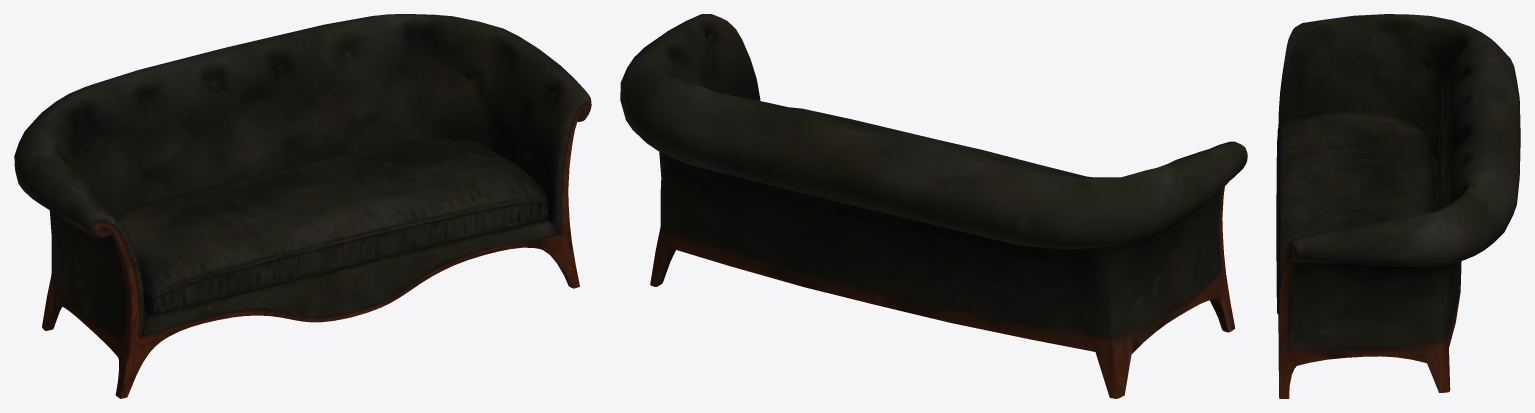
Rendered from sofa_02.gltf.
3 renders of one model, left to right at view 1: azimuth 30°, elevation 25°; view 2: azimuth 150°, elevation 25°; view 3: azimuth 270°, elevation 25°, orthographic. The views are drawn at different scales.
Parts seen in each view (by area): view 1: sofa_02_Base, sofa_02_Seat; view 2: sofa_02_Base, sofa_02_Seat; view 3: sofa_02_Base, sofa_02_Seat.
Boxes of the visible parts, bbox=[...] form: sofa_02_Base: bbox=[14, 14, 591, 398]; sofa_02_Seat: bbox=[115, 139, 549, 314]; sofa_02_Base: bbox=[620, 14, 1247, 398]; sofa_02_Seat: bbox=[789, 107, 1086, 176]; sofa_02_Base: bbox=[1278, 14, 1520, 398]; sofa_02_Seat: bbox=[1276, 112, 1433, 314].
Bounding box in the file's own units: 1.81 × 0.7095 × 0.8178.
Materials: 1 (1 with a texture image).
